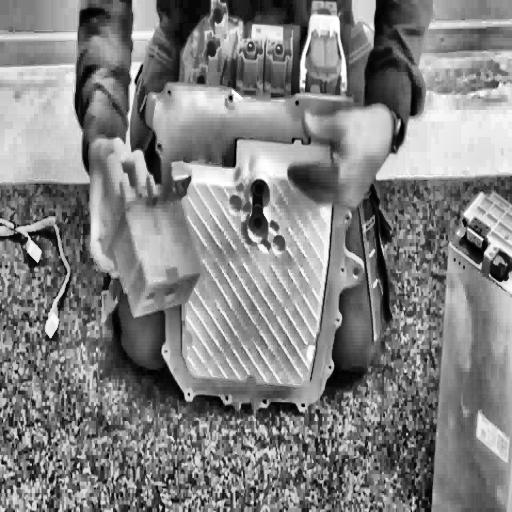bms_unit: (147, 0, 367, 430)
connector: (96, 148, 202, 322)
